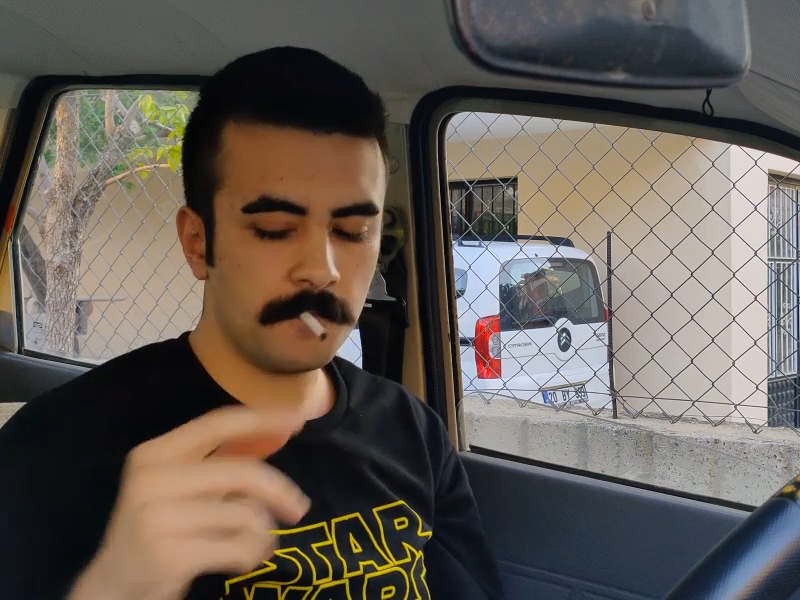sigara: (299, 311, 329, 344)
